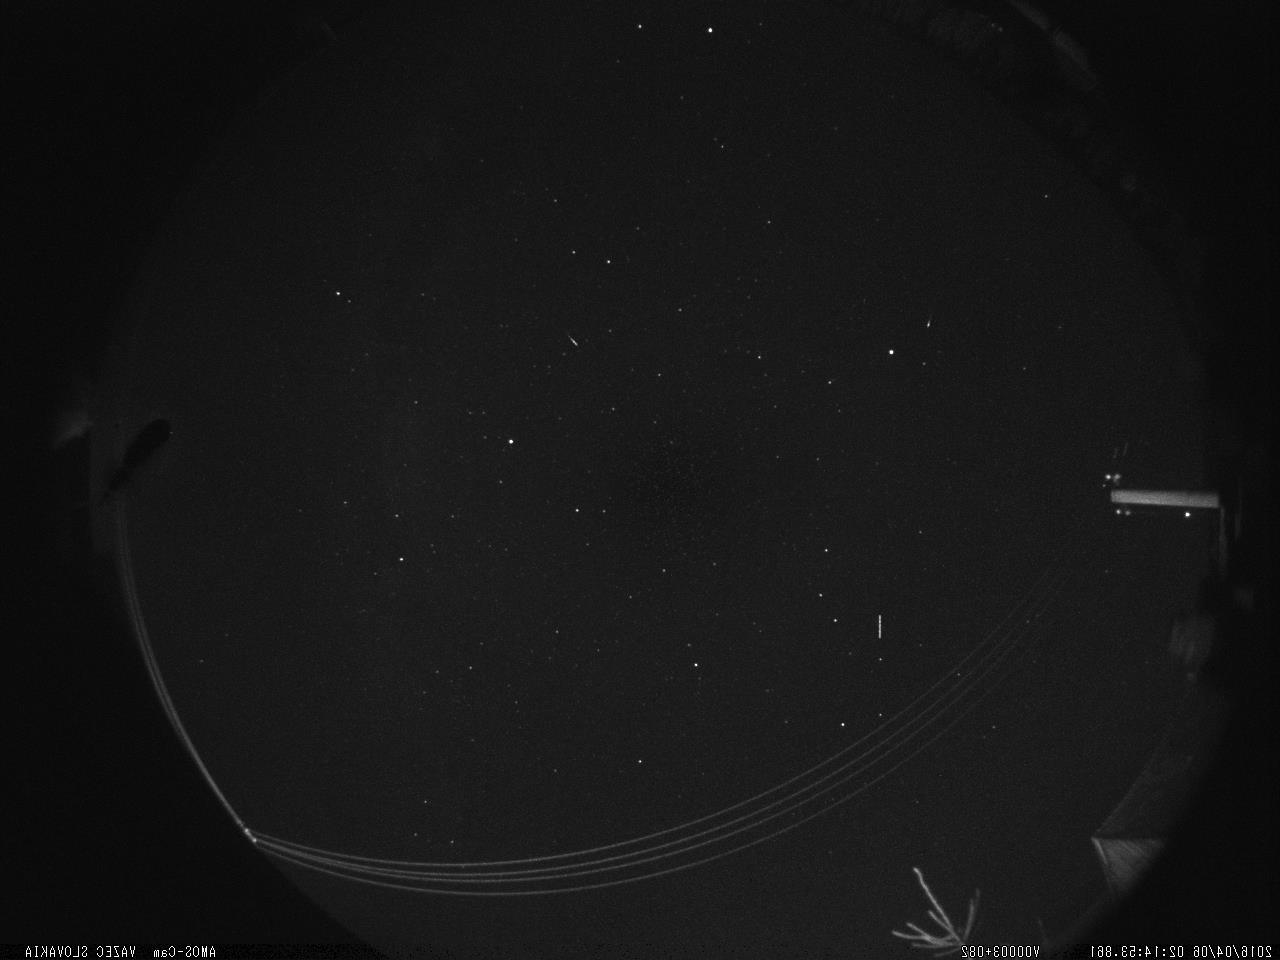meteor: (559, 325, 585, 353)
satelite: (870, 606, 891, 649)
